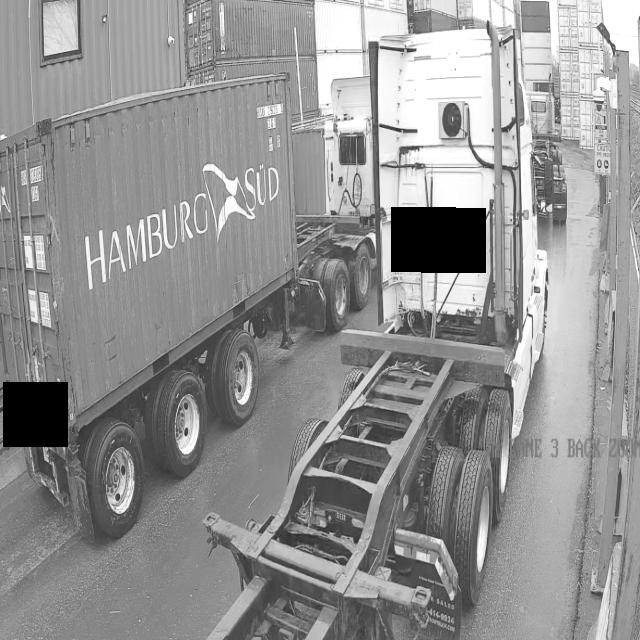container_company_logo: (80, 147, 292, 279)
truck_with_container: (0, 76, 375, 541)
truck_without_container: (204, 22, 549, 640)
